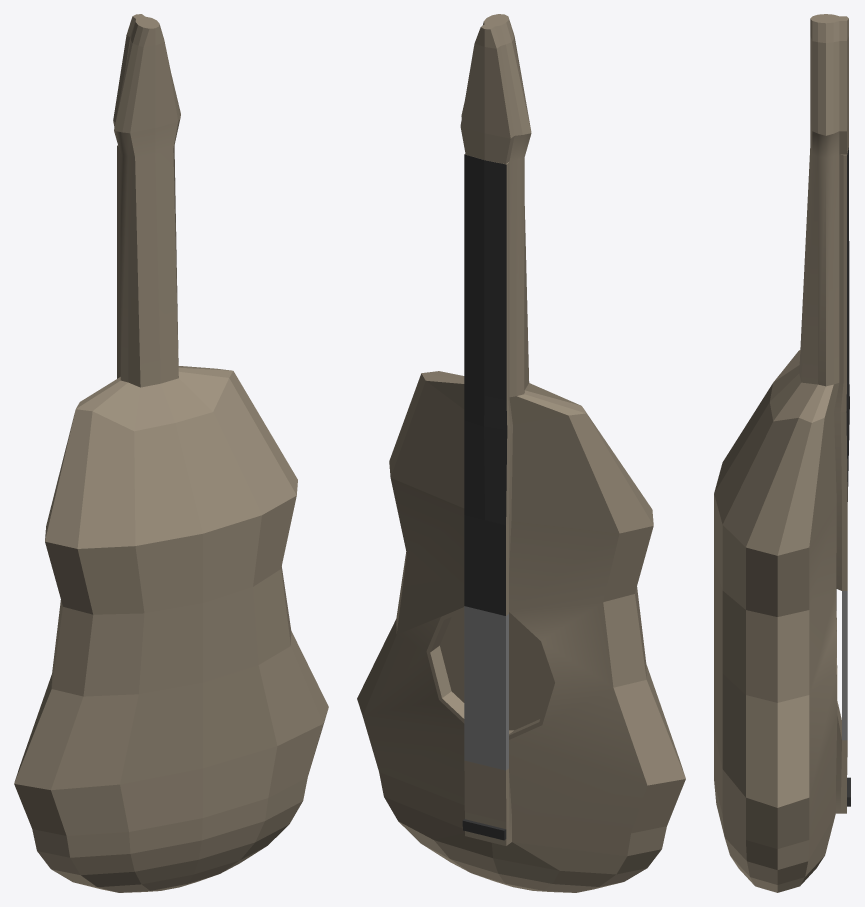
Rendered from Guitar.fbx.
3 views of the same model, side by side, from view 1: azimuth 30°, elevation 25°; view 2: azimuth 150°, elevation 25°; view 3: azimuth 270°, elevation 25° (orthographic). The views are drawn at different scales.
Visible parts, largest first — view 1: Guitar; view 2: Guitar; view 3: Guitar.
Part boxes in pixels (box(x1,y1,x2,y2)): Guitar: box(14, 14, 328, 892); Guitar: box(357, 14, 685, 892); Guitar: box(714, 14, 850, 892).
Size of the model in its own units: 3.69 by 9.44 by 1.37.
